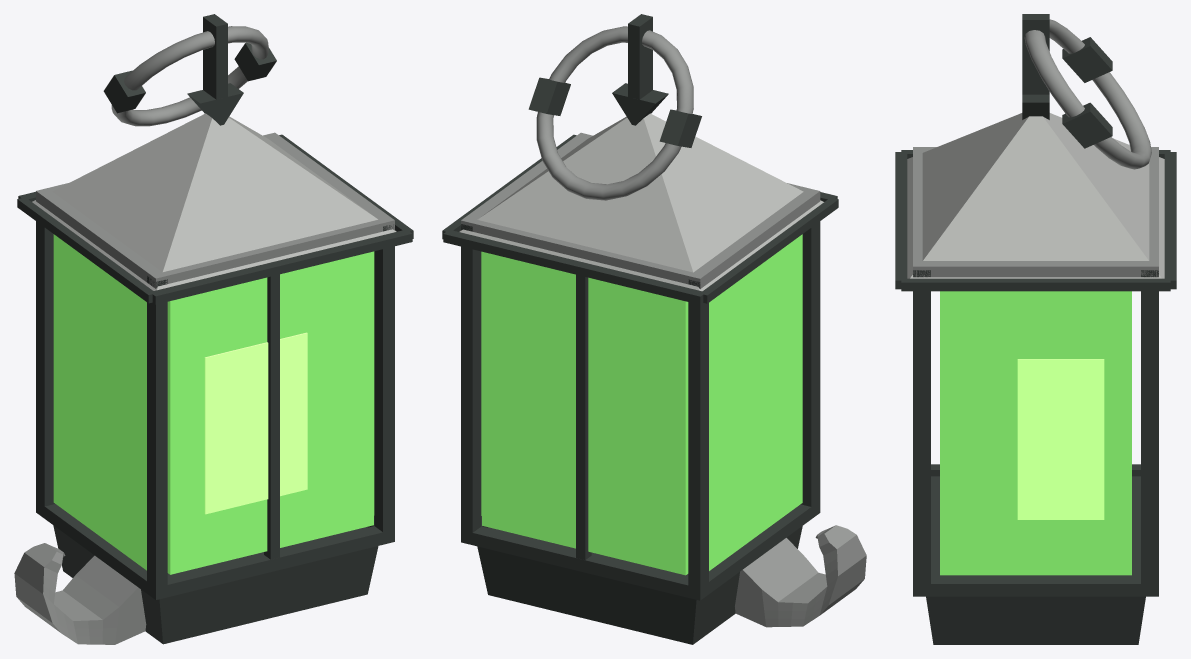
Rendered from lantern_final.glb.
The picture shows the model from 3 angles, left to right: view 1: azimuth 30°, elevation 25°; view 2: azimuth 150°, elevation 25°; view 3: azimuth 270°, elevation 25°; orthographic projection. The views are drawn at different scales.
Visible parts, largest first — view 1: Glass - Front.001, Top Roof.001, Glass - Left.001, Glass Accent - Front.001, Bottom Housing.001, Bottom Housing - Front Plate.001, Frame - Corner Front Left.001, Frame - Corner Front Right.001, Frame - Corner Rear Left.001, Frame - Front Bottom.001, Handle.002, Roof Rim Front.001 (+11 smaller); view 2: Glass - Rear.001, Top Roof.001, Glass - Left.001, Bottom Housing.001, Bottom Housing - Front Plate.001, Handle.002, Frame - Corner Rear Left.001, Frame - Corner Rear Right.001, Frame - Corner Front Left.001, Frame - Rear Bottom.001, Roof Rim Back.001, Frame - Rear Center.001 (+9 smaller); view 3: Glass - Right.001, Top Roof.001, Glass Accent - Right.001, Bottom Housing.001, Frame - Corner Front Right.001, Frame - Corner Rear Right.001, Handle.002, Frame - Right Bottom.001, Roof Rim Right.001, Frame - Right Top.001, Roof Rim Back.001, Roof Rim Front.001 (+6 smaller).
Part boxes in pixels (left/top/right/bottom): Glass - Front.001: left=167, top=251, right=373, bottom=574; Top Roof.001: left=32, top=113, right=396, bottom=290; Glass - Left.001: left=53, top=234, right=146, bottom=570; Glass Accent - Front.001: left=204, top=332, right=307, bottom=514; Bottom Housing.001: left=53, top=525, right=378, bottom=644; Bottom Housing - Front Plate.001: left=14, top=543, right=146, bottom=644; Frame - Corner Front Left.001: left=147, top=276, right=167, bottom=596; Frame - Corner Front Right.001: left=374, top=224, right=394, bottom=541; Frame - Corner Rear Left.001: left=36, top=221, right=54, bottom=514; Frame - Front Bottom.001: left=147, top=526, right=394, bottom=599; Handle.002: left=111, top=26, right=268, bottom=126; Roof Rim Front.001: left=152, top=229, right=412, bottom=304; Glass - Rear.001: left=482, top=251, right=688, bottom=575; Top Roof.001: left=459, top=113, right=823, bottom=291; Glass - Left.001: left=709, top=234, right=802, bottom=570; Bottom Housing.001: left=477, top=526, right=802, bottom=644; Bottom Housing - Front Plate.001: left=735, top=525, right=866, bottom=627; Handle.002: left=536, top=26, right=693, bottom=200; Frame - Corner Rear Left.001: left=688, top=279, right=708, bottom=595; Frame - Corner Rear Right.001: left=461, top=224, right=481, bottom=540; Frame - Corner Front Left.001: left=801, top=221, right=820, bottom=514; Frame - Rear Bottom.001: left=465, top=526, right=708, bottom=600; Roof Rim Back.001: left=443, top=230, right=705, bottom=304; Frame - Rear Center.001: left=576, top=274, right=591, bottom=559; Glass - Right.001: left=940, top=291, right=1131, bottom=575; Top Roof.001: left=907, top=113, right=1164, bottom=278; Glass Accent - Right.001: left=1017, top=359, right=1104, bottom=519; Bottom Housing.001: left=926, top=476, right=1145, bottom=644; Frame - Corner Front Right.001: left=913, top=270, right=930, bottom=583; Frame - Corner Rear Right.001: left=1141, top=270, right=1158, bottom=583; Handle.002: left=1024, top=19, right=1151, bottom=169; Frame - Right Bottom.001: left=931, top=578, right=1140, bottom=596; Roof Rim Right.001: left=901, top=278, right=1170, bottom=291; Frame - Right Top.001: left=913, top=261, right=1158, bottom=277; Roof Rim Back.001: left=1164, top=152, right=1176, bottom=289; Roof Rim Front.001: left=895, top=152, right=907, bottom=289.
Size of the model in its own units: 1.39 by 2.26 by 0.9934.
